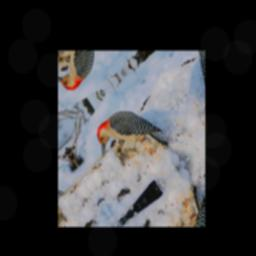Woodpecker: (89, 89, 174, 192)
